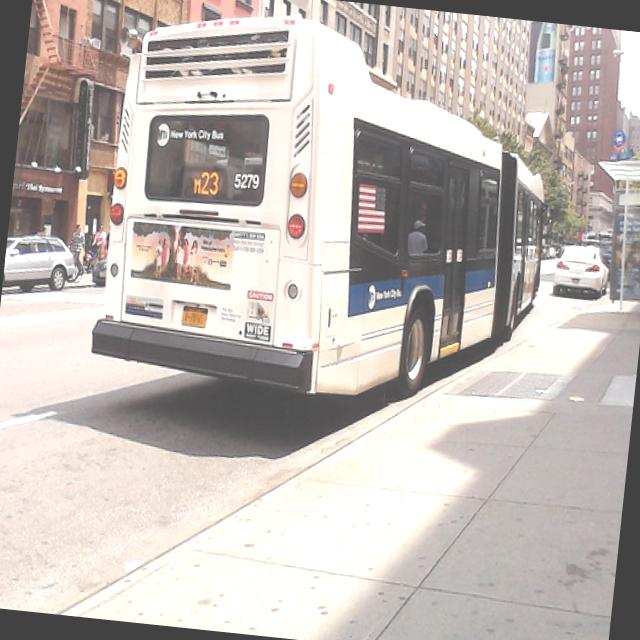Vehicle: (81, 0, 525, 411), (1, 231, 81, 301), (550, 240, 610, 304), (548, 247, 558, 260)
